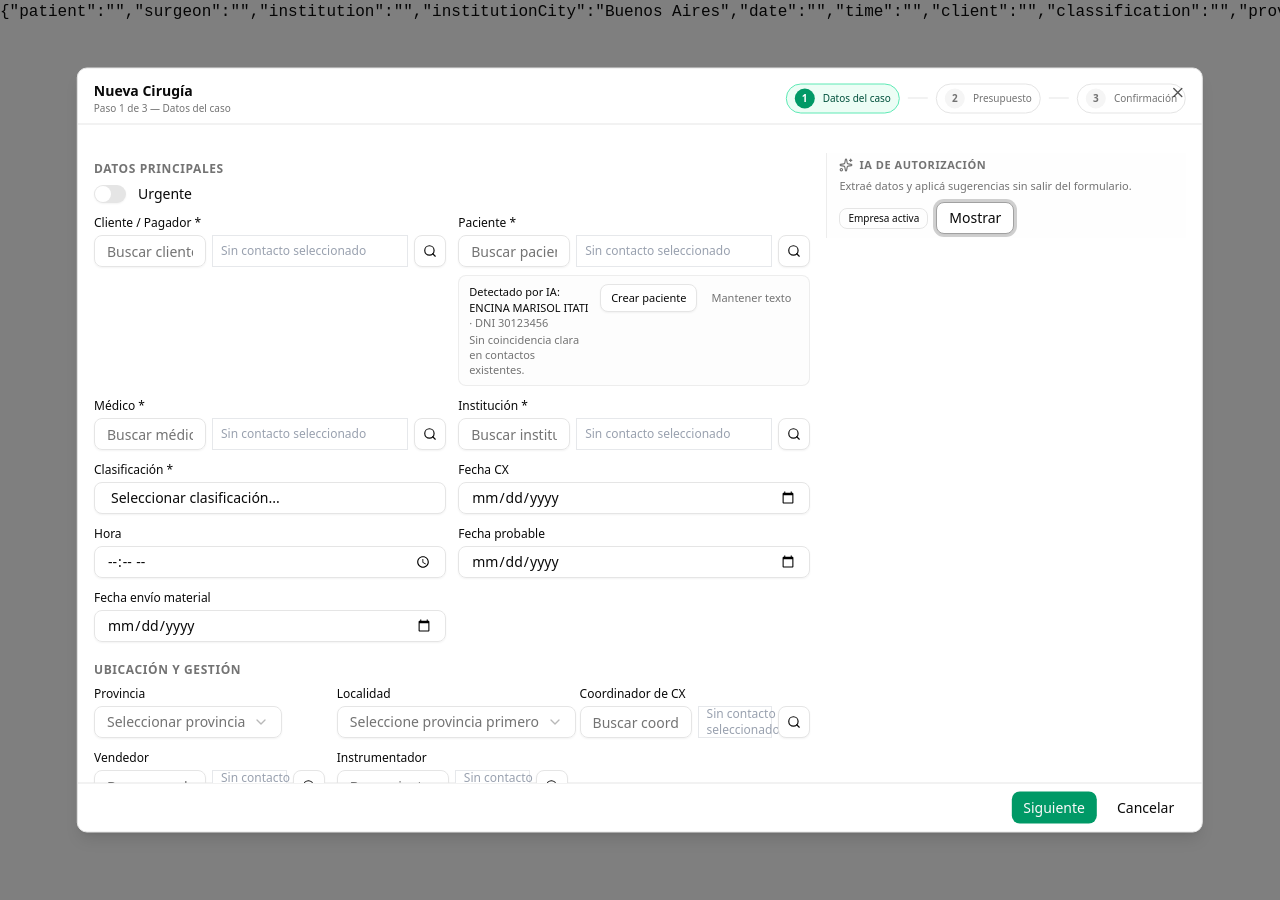
Test: NewSurgeryDialog — NUEVA-CIRUGIA-IA-UX-P1 (Phase A, focused render) › shows an explicit text-only indicator after clicking 'Mantener texto'
This screenshot has width=1280, height=900.
Click the button "Mantener texto". click: [751, 298]
box: [703, 284, 799, 312]
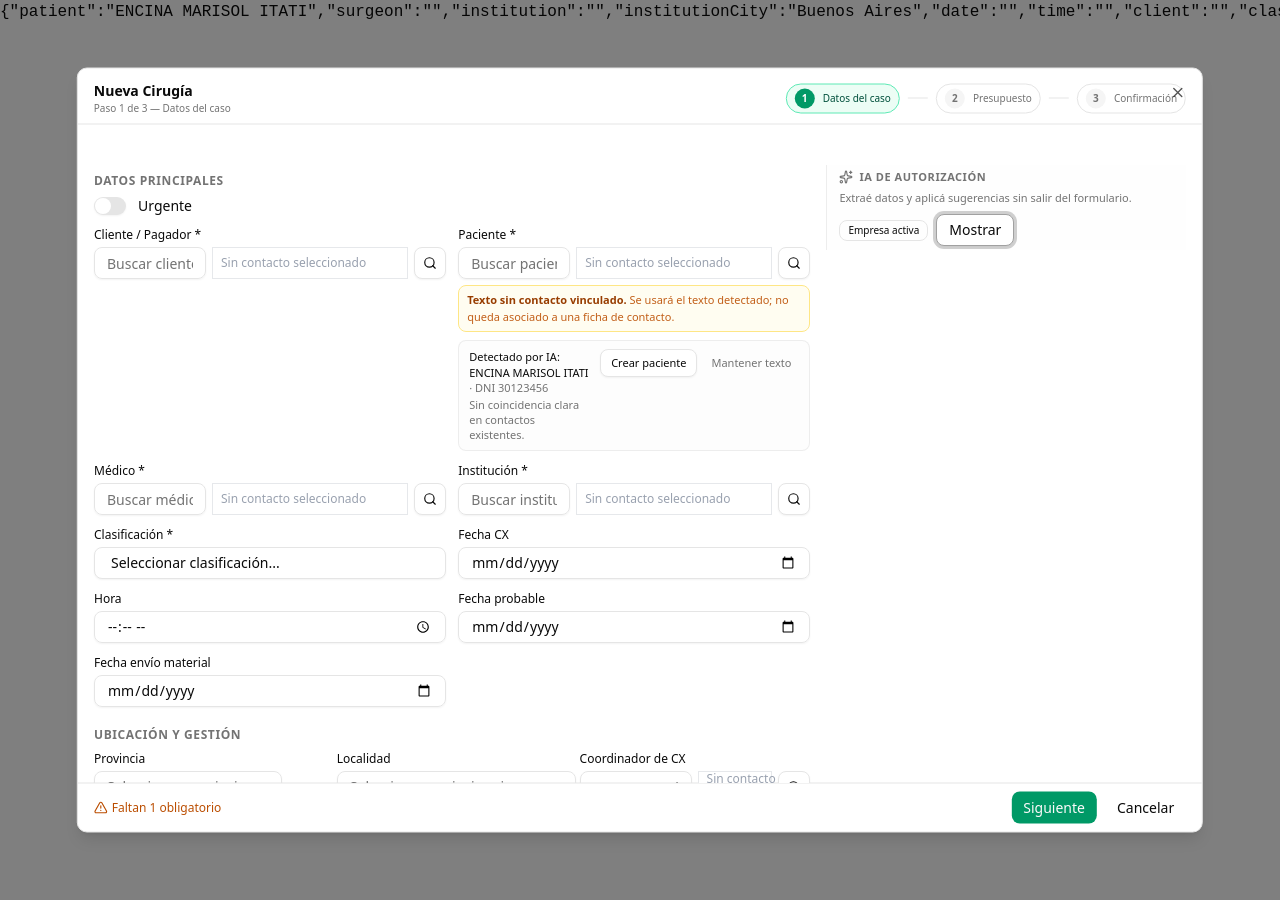
Now the text "Texto sin contacto vinculado." is shown, box [467, 292, 626, 307]
Now the text "no queda asociado a una ficha de contacto" is shown, box [467, 292, 788, 323]
